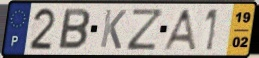1: (203, 8, 220, 52)
2: (28, 6, 58, 52)
A: (160, 8, 198, 52)
B: (56, 7, 92, 51)
K: (98, 8, 128, 51)
Z: (126, 7, 166, 52)
